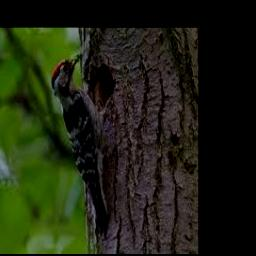Woodpecker: (52, 52, 115, 237)
